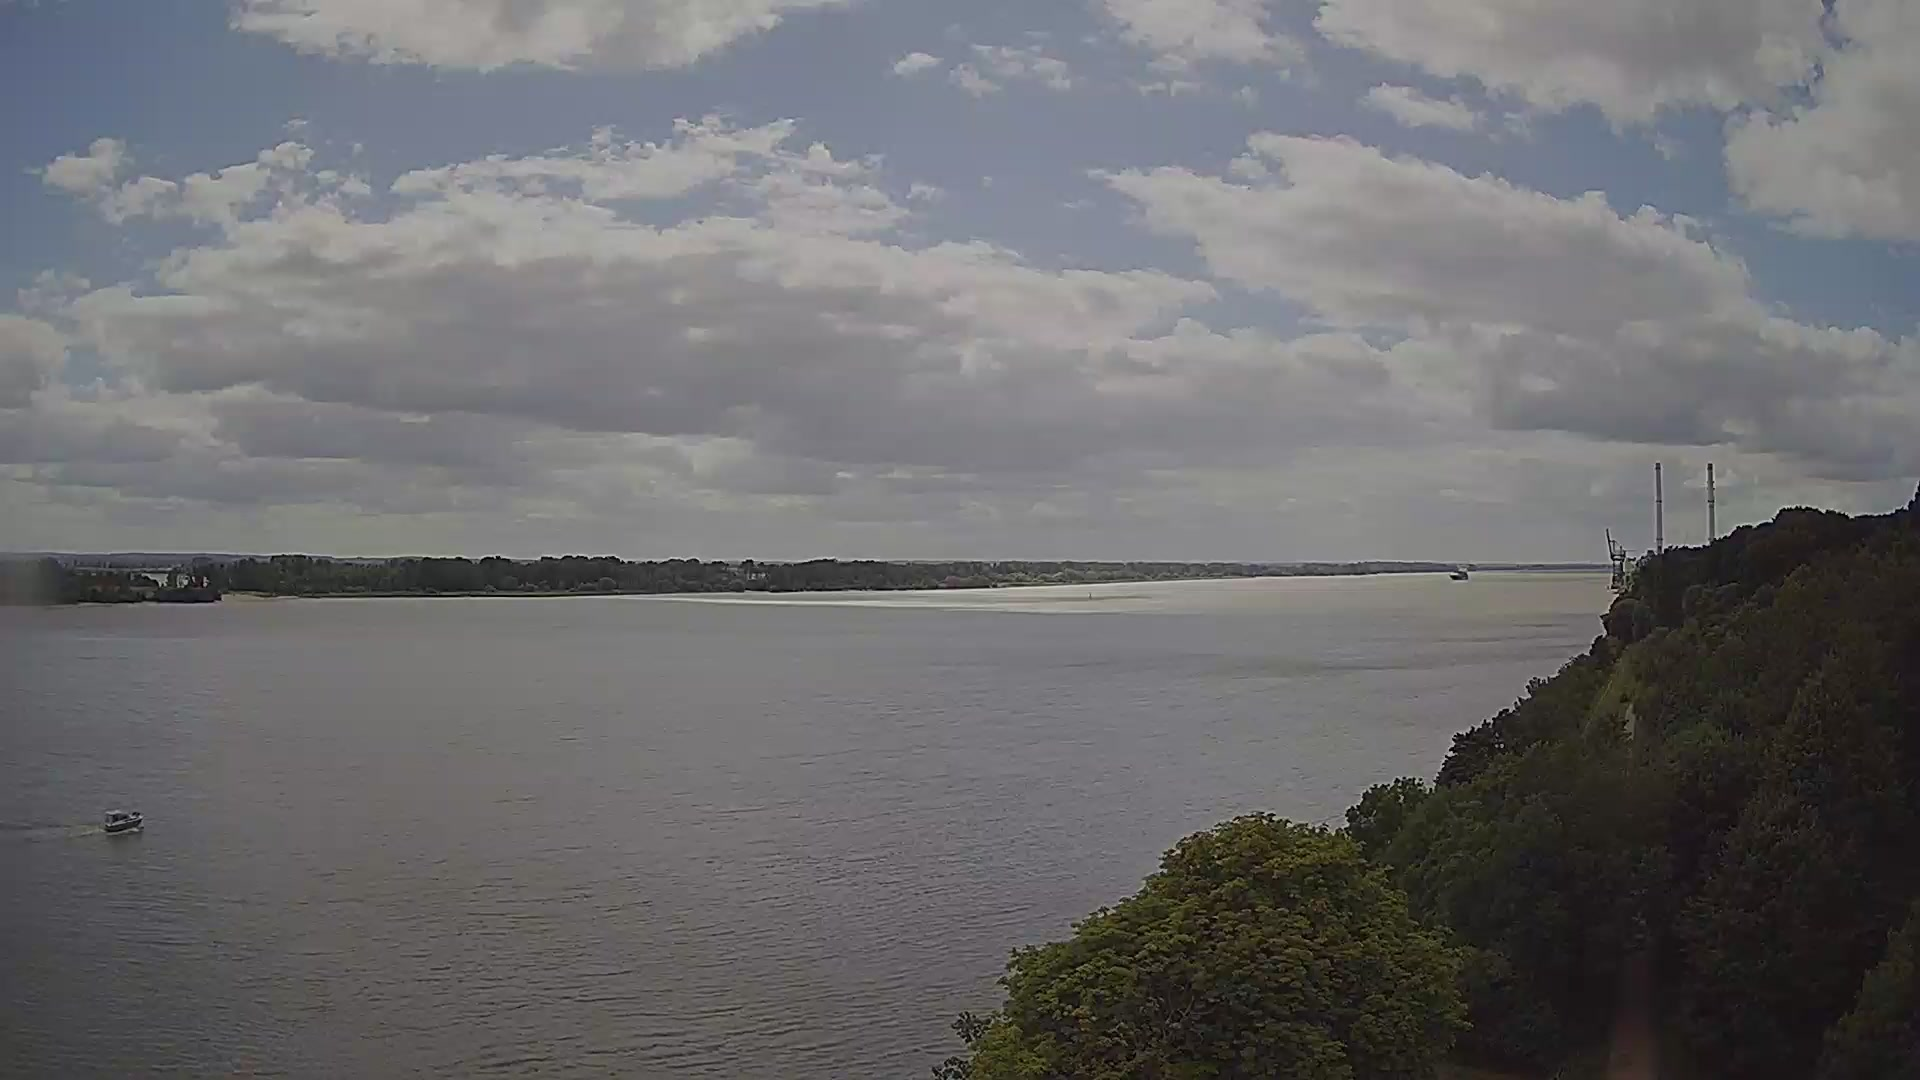sea: (102, 808, 145, 833), (1448, 566, 1469, 582)
